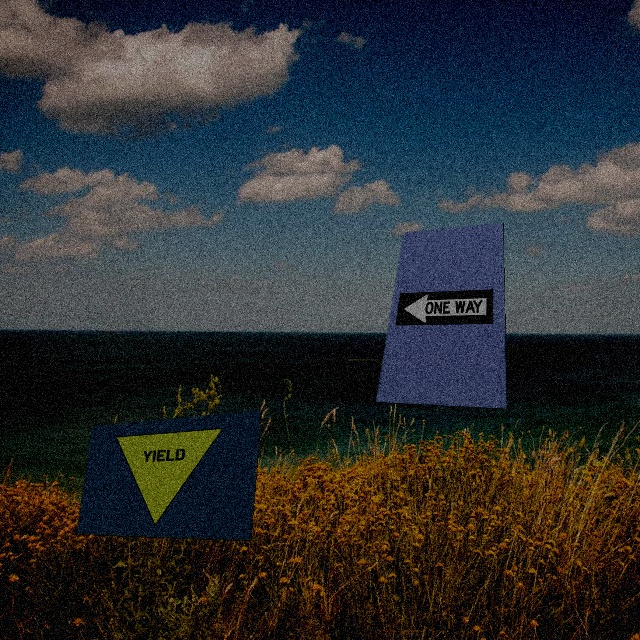ONE_WAY_ left: (396, 290, 494, 326)
YIELD: (103, 428, 224, 528)
